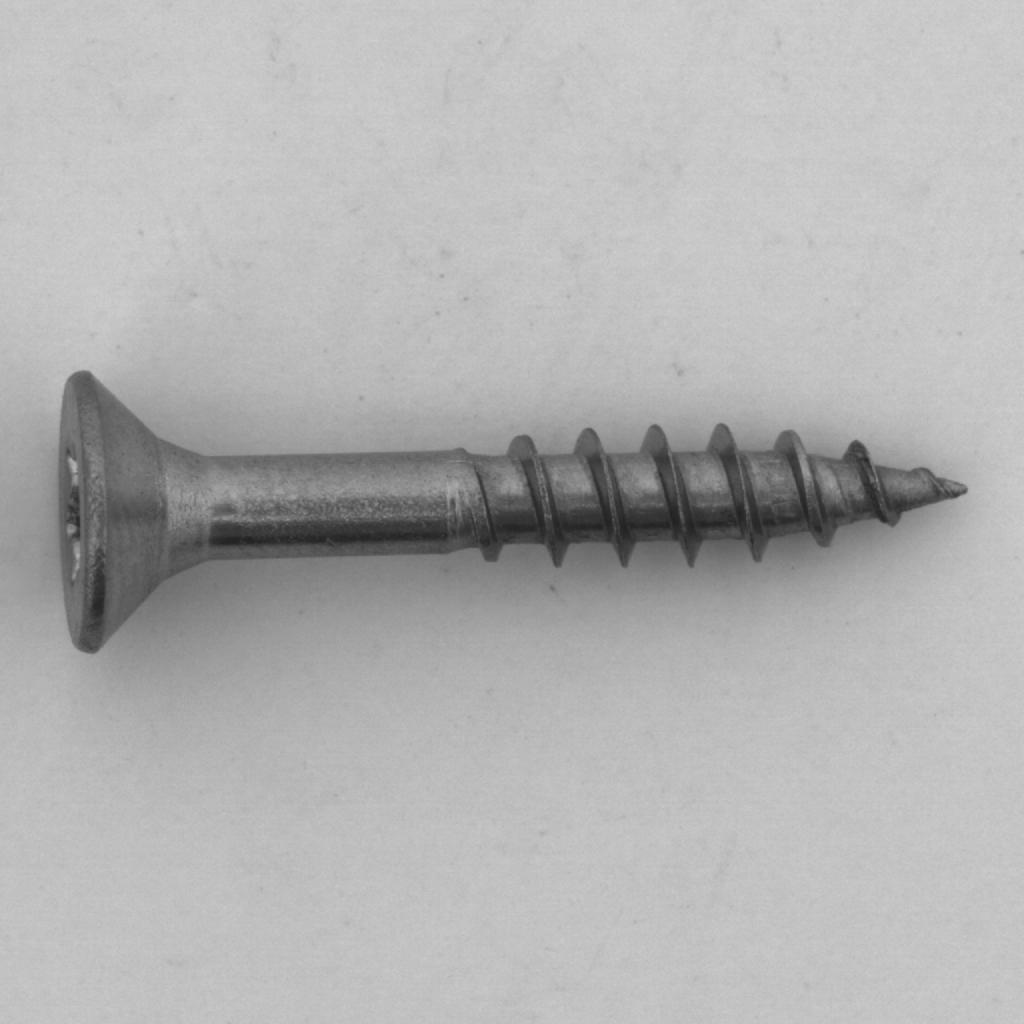good: (37, 360, 985, 675)
